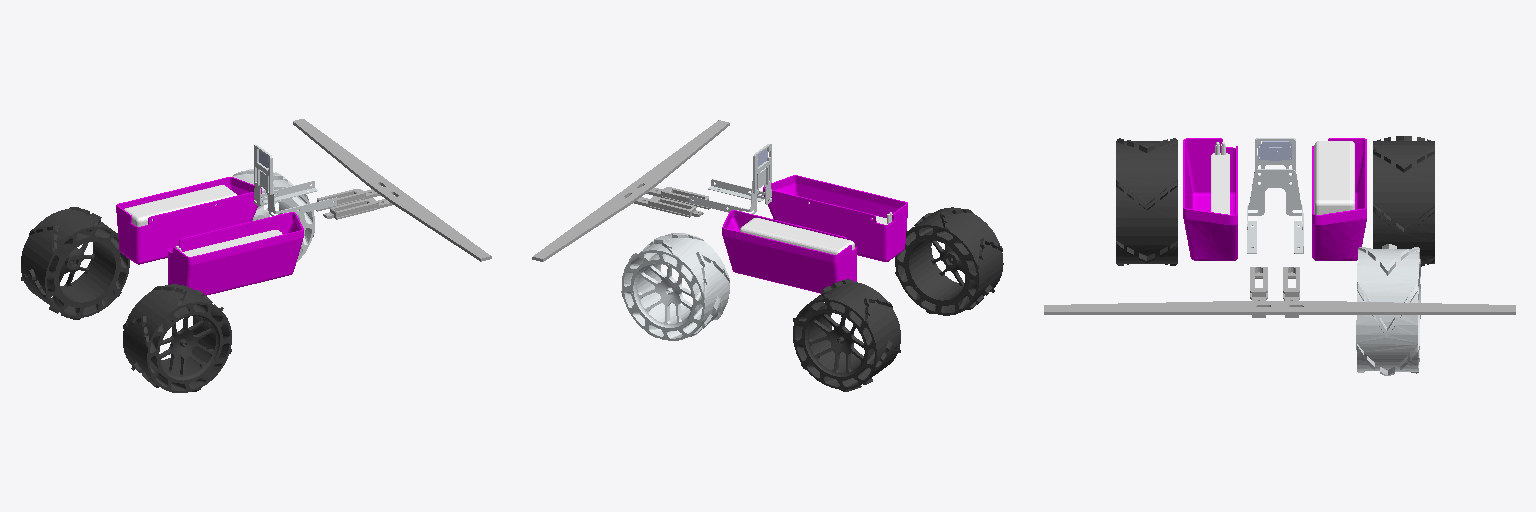
The robot description file, URDF, robot "perse":
<?xml version="1.0" encoding="utf-8"?>
<!-- This URDF was automatically created by SolidWorks to URDF Exporter! Originally created by Stephen Brawner (brawner@gmail.com) 
     Commit Version: 1.5.1-0-g916b5db  Build Version: 1.5.7152.31018
     For more information, please see http://wiki.ros.org/sw_urdf_exporter -->
<robot name="perse">
  <link name="base_link">
    <inertial>
      <origin xyz="0.168983151004299 0.00691298433678258 0.000423190257476187" rpy="0 0 0" />
      <mass value="0.441656288542662" />
      <inertia ixx="0.00072640876800129" ixy="1.24858920002717E-05" ixz="-2.11765672186669E-08" iyy="0.0049473583439408" iyz="-9.42360683636948E-13" izz="0.00423864047015624" />
    </inertial>
    <visual>
      <origin xyz="0 0 0" rpy="0 0 0" />
      <geometry>
        <mesh filename="package://perse_simulation/meshes/base_link.STL" />
      </geometry>
      <material name="">
        <color rgba="0.752941176470588 0.752941176470588 0.752941176470588 1" />
      </material>
    </visual>
    <collision>
      <origin xyz="0.12 0 0.01" rpy="0 0 0" />
      <geometry>
        <box size="0.34 0.21 0.19" />
      </geometry>
    </collision>
  </link>
  <link name="chasis_link">
    <inertial>
      <origin xyz="0.00923560336290369 -0.000156556443598481 -0.0793512912170262" rpy="0 0 0" />
      <mass value="0.572680528132643" />
      <inertia ixx="0.000244214342636391" ixy="-4.25894224141125E-07" ixz="2.72570320569341E-05" iyy="0.000841946032141787" iyz="4.26066855010983E-07" izz="0.000959915087583011" />
    </inertial>
    <visual>
      <origin xyz="0 0 0" rpy="0 0 0" />
      <geometry>
        <mesh filename="package://perse_simulation/meshes/chasis_link.STL" />
      </geometry>
      <material name="">
        <color rgba="0.298039215686275 0.298039215686275 0.298039215686275 1" />
      </material>
    </visual>
  </link>
  <joint name="chasis_link" type="fixed">
    <origin xyz="0.11815 0 0.0167" rpy="0 0 0" />
    <parent link="base_link" />
    <child link="chasis_link" />
    <axis xyz="0 0 0" />
  </joint>
  <link name="wheel_front_left_link">
    <inertial>
      <origin xyz="-0.000671354037465849 -0.0288209896245741 -7.0635324950219E-09" rpy="0 0 0" />
      <mass value="0.373173198586738" />
      <!-- Inertia values in scientific notation -->
      <inertia ixx="5.271e-4" ixy="7.37E-06" ixz="-9.39E-11" iyy="8.436e-4" iyz="-3.0E-11" izz="5.271e-4" /> 
    </inertial>
    <visual>
      <origin xyz="0 0 0" rpy="0 0 0" />
      <geometry>
        <!-- <sphere radius="0.06"/> -->
        <mesh filename="package://perse_simulation/meshes/wheel_front_left_link.STL" />
      </geometry>
      <material name="">
        <color rgba="0.898039215686275 0.917647058823529 0.929411764705882 1" />
      </material>
    </visual>
    <collision> <!--Changes colision blocks to a 0.06m cylinder-->
      <origin xyz="0 -0.03 0" rpy="1.5708 0 0" />
      <geometry>
        <cylinder length="0.06" radius="0.06"/>
      </geometry>
    </collision>
  </link>
  <joint name="wheel_front_left_joint" type="continuous">
    <origin xyz="0.12923 0.14061 -0.073983" rpy="0 0 0" /> <!-- Wheel with no inclination -->
    <parent link="chasis_link" />
    <child link="wheel_front_left_link" />
    <axis xyz="0 1 0" />
    <limit effort="20" velocity="100" />
    <dynamics damping="0.2" friction="0.01" />
  </joint>
  <link name="wheel_front_right_link">
    <inertial>
      <origin xyz="-0.000680674768011202 0.0288203993742683 -3.77309268551063E-09" rpy="0 0 0" />
      <mass value="0.373163146114833" />
      <inertia ixx="5.271e-4" ixy="7.37E-06" ixz="-9.39E-11" iyy="8.436e-4" iyz="-3.0E-11" izz="5.271e-4" />
    </inertial>
    <visual>
      <origin xyz="0 0 0" rpy="0 0 0" />
      <geometry>
        <!-- <sphere radius="0.06"/> -->
        <mesh filename="package://perse_simulation/meshes/wheel_front_right_link.STL" />
      </geometry>
      <material name="">
        <color rgba="0.298039215686275 0.298039215686275 0.298039215686275 1" />
      </material>
    </visual>
    <collision> <!--Changes colision blocks to a 0.06m cylinder-->
      <origin xyz="0 0.03 0" rpy="1.5708 0 0" />
      <geometry>
        <cylinder length="0.06" radius="0.06"/>
      </geometry>
    </collision>
  </link>
  <joint name="wheel_front_right_joint" type="continuous">
    <origin xyz="0.12924 -0.14061 -0.073979" rpy="0 0 0" />
    <parent link="chasis_link" />
    <child link="wheel_front_right_link" />
    <axis xyz="0 1 0" />
    <limit effort="20" velocity="100" />
    <dynamics damping="0.2" friction="0.01" />
  </joint>
  <link name="wheel_back_right_link">
    <inertial>
      <origin xyz="-1.01586713260188E-09 0.0288209096412485 -2.07344974523238E-11" rpy="0 0 0" />
      <mass value="0.370782867805825" />
      <inertia ixx="5.271e-4" ixy="7.37E-06" ixz="-9.39E-11" iyy="8.436e-4" iyz="-3.0E-11" izz="5.271e-4" />
    </inertial>
    <visual>
      <origin xyz="0 0 0" rpy="0 0 0" />
      <geometry>
        <!-- <sphere radius="0.06"/> -->
        <mesh filename="package://perse_simulation/meshes/wheel_back_right_link.STL" />
      </geometry>
      <material name="">
        <color rgba="0.298039215686275 0.298039215686275 0.298039215686275 1" />
      </material>
    </visual>
        <collision> <!--Changes colision blocks to a 0.06m cylinder-->
      <origin xyz="0 0.03 0" rpy="1.5708 0 0" />
      <geometry>
        <cylinder length="0.06" radius="0.06"/>
      </geometry>
    </collision>
  </link>
  <joint name="wheel_back_right_joint" type="continuous">
    <origin xyz="-0.12465 -0.15522 -0.075807" rpy="0 0 0" />
    <parent link="chasis_link" />
    <child link="wheel_back_right_link" />
    <axis xyz="0 1 0" />
    <limit effort="20" velocity="100" />
    <dynamics damping="0.2" friction="0.01" />
  </joint>
  <link name="wheel_back_left_link">
    <inertial>
      <origin xyz="8.13761188642181E-10 -0.0288212689411408 -4.82949791269505E-12" rpy="0 0 0" />
      <mass value="0.370792467159688" />
      <inertia ixx="5.271e-4" ixy="7.37E-06" ixz="-9.39E-11" iyy="8.436e-4" iyz="-3.0E-11" izz="5.271e-4" />
    </inertial>
    <visual>
      <origin xyz="0 0 0" rpy="0 0 0" />
      <geometry>
        <!-- <sphere radius="0.06"/> -->
        <mesh filename="package://perse_simulation/meshes/wheel_back_left_link.STL" />
      </geometry>
      <material name="">
        <color rgba="0.298039215686275 0.298039215686275 0.298039215686275 1" />
      </material>
    </visual>
    <collision> <!--Changes colision blocks to a 0.06m cylinder-->
      <origin xyz="0 -0.03 0" rpy="1.5708 0 0" />
      <geometry>
        <cylinder length="0.06" radius="0.06"/>
      </geometry>
    </collision>
  </link>
  <joint name="wheel_back_left_joint" type="continuous">
    <origin xyz="-0.12391 0.15579 -0.075449" rpy="0 0 0" />
    <parent link="chasis_link" />
    <child link="wheel_back_left_link" />
    <axis xyz="0 1 0" />
    <limit effort="20" velocity="100" />
    <dynamics damping="0.2" friction="0.01" />
  </joint>
  <link name="bumper_link">
    <inertial>
      <origin xyz="-0.0197983251755962 -0.00205538293640049 -0.0030788567492823" rpy="0 0 0" />
      <mass value="0.0928247512879303" />
      <inertia ixx="0.000792898400131579" ixy="1.26071724825238E-10" ixz="7.24253301373342E-07" iyy="3.8879170876043E-05" iyz="5.16459216919791E-12" izz="0.000831171039558352" />
    </inertial>
    <visual>
      <origin xyz="0 0 0" rpy="0 0 0" />
      <geometry>
        <mesh filename="package://perse_simulation/meshes/bumper_link.STL" />
      </geometry>
      <material name="">
        <color rgba="0.752941176470588 0.752941176470588 0.752941176470588 1" />
      </material>
    </visual>
    <collision>
      <origin xyz="0.005 0 -0.002" rpy="0 0 0" />
      <geometry>
        <box size="0.015 0.46 0.0038" />
      </geometry>
    </collision>
  </link>
  <joint name="bumper_joint" type="prismatic">
    <origin xyz="0.36665 0.0045747 0.0029" rpy="0 0 0" />
    <parent link="base_link" />
    <child link="bumper_link" />
    <axis xyz="-1 0 0" />
    <limit lower="0" upper="0.1" effort="0" velocity="0" />
  </joint>
  <link name="cover_link">
    <inertial>
      <origin xyz="-0.0174932276719462 -1.15666213528872E-07 0.0503519559153548" rpy="0 0 0" />
      <mass value="0.254541750747645" />
      <inertia ixx="0.00131517561706886" ixy="1.38374202276417E-09" ixz="-2.9740913690247E-06" iyy="0.0023369968409447" iyz="6.97683034825856E-10" izz="0.00333584236151002" />
    </inertial>
    <visual>
      <origin xyz="0 0 0" rpy="0 0 0" />
      <geometry>
        <mesh filename="package://perse_simulation/meshes/cover_link.STL" />
      </geometry>
      <material name="">
        <color rgba="0.909803921568627 0.443137254901961 0.0313725490196078 0.1" />
      </material>
    </visual>
    <collision>
      <origin xyz="0 0 0" rpy="0 0 0" />
      <geometry>
        <mesh filename="package://perse_simulation/meshes/cover_link.STL" />
      </geometry>
    </collision>
  </link>
  <joint name="cover_joint" type="fixed">
    <origin xyz="0.11815 0 0.0167" rpy="0 0 0" />
    <parent link="base_link" />
    <child link="cover_link" />
    <axis xyz="0 0 0" />
  </joint>
  <link name="cover_support_link">
    <inertial>
      <origin xyz="0.049477002584874 -2.56956833210732E-08 0.043432527903989" rpy="0 0 0" />
      <mass value="0.0387475026399445" />
      <inertia ixx="1.10683437057838E-05" ixy="-7.4033433903087E-13" ixz="1.53970244009771E-05" iyy="0.000114964202382001" iyz="-2.32012116375745E-13" izz="0.000104314593615965" />
    </inertial>
    <visual>
      <origin xyz="0 0 0" rpy="0 0 0" />
      <geometry>
        <mesh filename="package://perse_simulation/meshes/cover_support_link.STL" />
      </geometry>
      <material name="">
        <color rgba="0.898039215686275 0.917647058823529 0.929411764705882 1" />
      </material>
    </visual>
  </link>
  <joint name="cover_support_link" type="fixed">
    <origin xyz="0 0 0" rpy="0 0 0" />
    <parent link="cover_link" />
    <child link="cover_support_link" />
    <axis xyz="0 0 0" />
  </joint>
  <link name="batt_holder_link">
    <inertial>
      <origin xyz="-0.0057793262735638 1.94236729264319E-08 -0.0261493476257636" rpy="0 0 0" />
      <mass value="0.150117988435019" />
      <inertia ixx="0.000124193410935441" ixy="8.22934030363454E-11" ixz="-1.39099029357065E-05" iyy="0.000499743783563102" iyz="-7.22361642465216E-12" izz="0.000505512212908171" />
    </inertial>
    <visual>
      <origin xyz="0 0 0" rpy="0 0 0" />
      <geometry>
        <mesh filename="package://perse_simulation/meshes/batt_holder_link.STL" />
      </geometry>
      <material name="">
        <color rgba="1 0 1 0.1" />
      </material>
    </visual>
  </link>
  <joint name="batt_holder_joint" type="fixed">
    <origin xyz="0.11815 0 0.0167" rpy="0 0 0" />
    <parent link="base_link" />
    <child link="batt_holder_link" />
    <axis xyz="0 0 0" />
  </joint>
  <link name="batt_link">
    <inertial>
      <origin xyz="-0.0133518675095092 0.0277219436805416 -0.0218779904778291" rpy="0 0 0" />
      <mass value="0.47107946087679" />
      <inertia ixx="0.000172274436488619" ixy="3.25322944646049E-11" ixz="8.73426976232674E-07" iyy="0.000947790680112584" iyz="2.97280586632034E-11" izz="0.000872623171096972" />
    </inertial>
    <visual>
      <origin xyz="0 0 0" rpy="0 0 0" />
      <geometry>
        <mesh filename="package://perse_simulation/meshes/batt_link.STL" />
      </geometry>
      <material name="">
        <color rgba="1 1 1 1" />
      </material>
    </visual>
  </link>
  <joint name="batt_joint" type="fixed">
    <origin xyz="0 0 0" rpy="0 0 0" />
    <parent link="batt_holder_link" />
    <child link="batt_link" />
    <axis xyz="0 0 0" />
  </joint>
  <link name="cam_holder_link">
    <inertial>
      <origin xyz="0.091640745696847 0.000134197552875963 0.0222842739273468" rpy="0 0 0" />
      <mass value="0.0150462204221491" />
      <inertia ixx="4.95861721943094E-06" ixy="-1.44112832895344E-11" ixz="4.06217292348507E-07" iyy="5.48096714293346E-06" iyz="-2.615320626043E-08" izz="5.9515926687423E-06" />
    </inertial>
    <visual>
      <origin xyz="0 0 0" rpy="0 0 0" />
      <geometry>
        <mesh filename="package://perse_simulation/meshes/cam_holder_link.STL" />
      </geometry>
      <material name="">
        <color rgba="0.898039215686275 0.917647058823529 0.929411764705882 1" />
      </material>
    </visual>
  </link>
  <joint name="cam_holder_link" type="fixed">
    <origin xyz="0.11815 0 0.0167" rpy="0 0 0" />
    <parent link="base_link" />
    <child link="cam_holder_link" />
    <axis xyz="0 0 0" />
  </joint>
  <link name="cam_link">
    <inertial>
      <origin xyz="0.00483096666276736 6.86111208687612E-05 -0.0013263162285802" rpy="0 0 0" />
      <mass value="0.00131256033286903" />
      <inertia ixx="9.28193457877313E-08" ixy="1.4716210796976E-24" ixz="1.35998657643117E-24" iyy="2.95812418066543E-08" iyz="-6.83499253625378E-10" izz="6.55571822863201E-08" />
    </inertial>
    <visual>
      <origin xyz="0 0 0" rpy="0 0 0" />
      <geometry>
        <mesh filename="package://perse_simulation/meshes/cam_link.STL" />
      </geometry>
      <material name="">
        <color rgba="0.792156862745098 0.819607843137255 0.933333333333333 1" />
      </material>
    </visual>
  </link>
  <joint name="cam_joint" type="fixed">
    <origin xyz="0.0673562763621052 0 0.0709889192905058" rpy="0 0 0" />
    <parent link="cam_holder_link" />
    <child link="cam_link" />
    <axis xyz="0 0 0" />
  </joint>
</robot>

--- Render facts (derived) ---
3 views of the same robot in one strip: view 1: azimuth 30°, elevation 25°; view 2: azimuth 150°, elevation 25°; view 3: azimuth 270°, elevation 25° (orthographic).
Robot: perse — 13 links, 12 joints (4 continuous, 1 prismatic, 7 fixed); root link base_link; default pose: every joint at zero.
Visible links, largest first — view 1: batt_holder_link, wheel_back_right_link, wheel_back_left_link, bumper_link, batt_link, cam_holder_link, wheel_front_left_link; view 2: batt_holder_link, wheel_front_left_link, wheel_back_left_link, wheel_back_right_link, bumper_link, batt_link, cam_holder_link; view 3: batt_holder_link, wheel_back_right_link, wheel_front_left_link, wheel_back_left_link, bumper_link, batt_link, cam_holder_link, cam_link.
Boxes of the visible links, <box> form: batt_holder_link: <box>116,177,303,295</box>; wheel_back_right_link: <box>123,284,231,392</box>; wheel_back_left_link: <box>21,207,129,319</box>; bumper_link: <box>293,119,491,261</box>; batt_link: <box>124,185,282,256</box>; cam_holder_link: <box>254,145,336,215</box>; wheel_front_left_link: <box>232,169,314,262</box>; batt_holder_link: <box>722,175,907,293</box>; wheel_front_left_link: <box>621,233,729,340</box>; wheel_back_left_link: <box>793,279,900,391</box>; wheel_back_right_link: <box>895,207,1003,315</box>; bumper_link: <box>532,120,729,261</box>; batt_link: <box>740,202,892,254</box>; cam_holder_link: <box>689,144,771,214</box>; batt_holder_link: <box>1183,138,1366,260</box>; wheel_back_right_link: <box>1116,138,1177,265</box>; wheel_front_left_link: <box>1356,244,1420,375</box>; wheel_back_left_link: <box>1373,136,1434,266</box>; bumper_link: <box>1044,267,1515,317</box>; batt_link: <box>1211,141,1354,214</box>; cam_holder_link: <box>1247,138,1303,253</box>; cam_link: <box>1258,141,1291,160</box>.
Size in the robot's own frame: 0.4499 by 0.46 by 0.2235 metres.
Meshes: 13 distinct files referenced, 8 mesh visuals loaded (8 binary STL); not drawn: 5 (reference not matched to a file when rendering).
